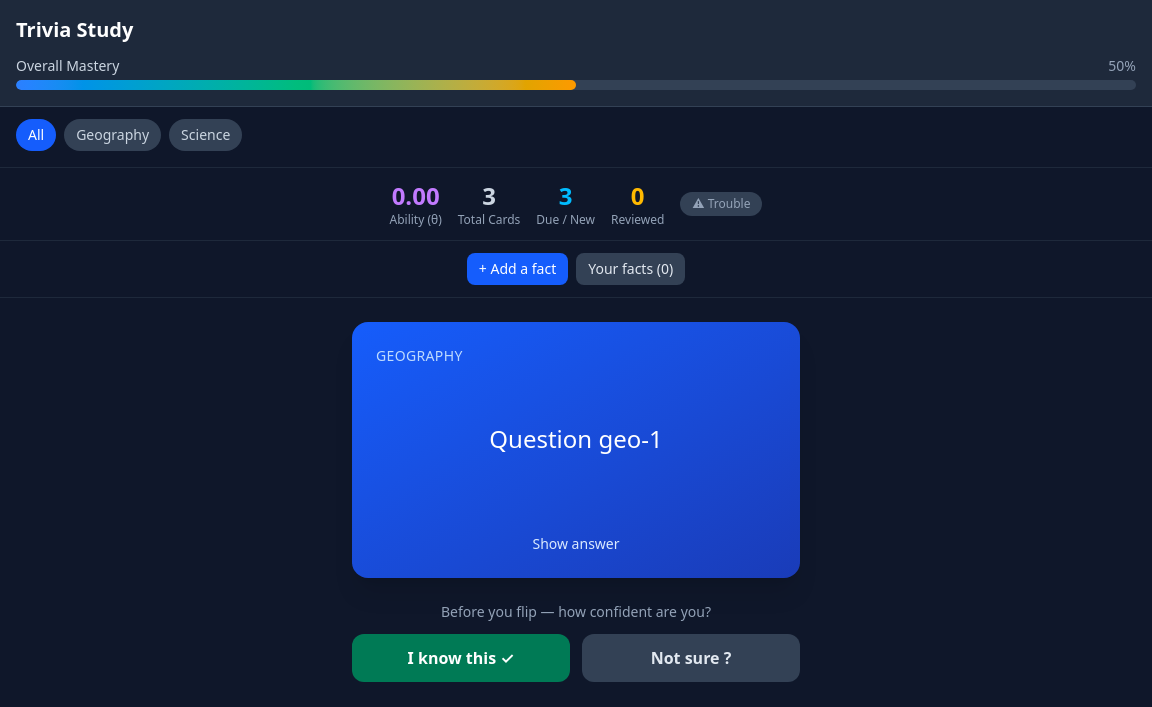
TriviaStudy › hides the prediction buttons once a prediction is made
Click the button "Not sure ?". click: (691, 658)
box: [582, 634, 800, 682]
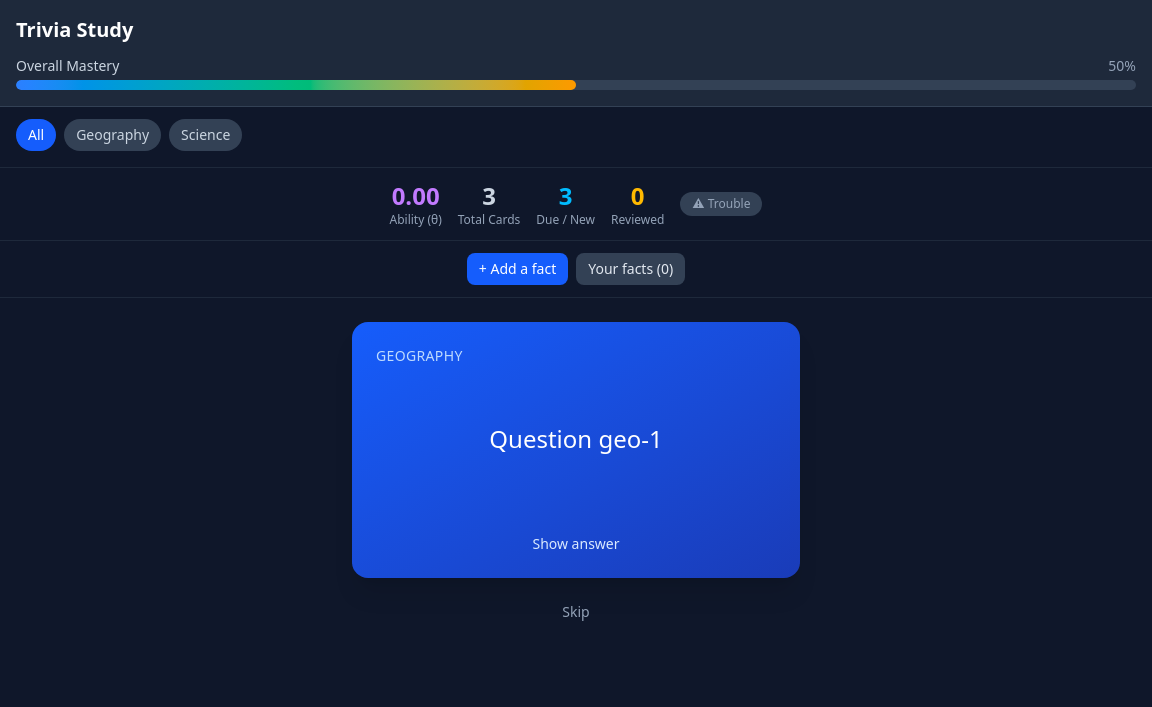
Expected: the button "I know this" is gone
